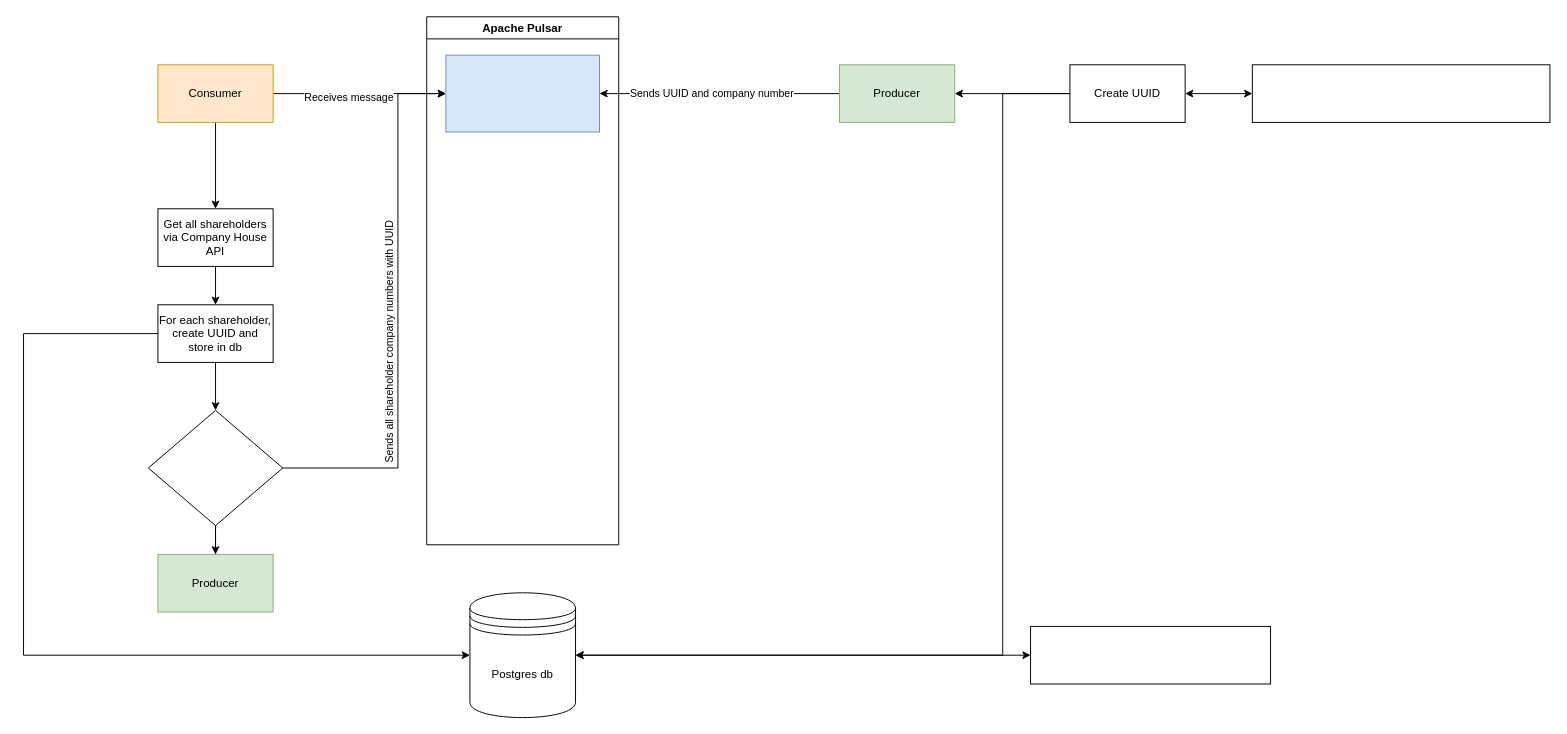
Some shapes in this 1567 by 734 pixel diagram are drawn without their labels. Each missing label, with the centre of its shape:
"GET /shareholders/{company_id}" goes at (1150,654).
"If max depth not reached" goes at (215,467).
"POST /search_shareholders/{company_house_number}/{depth}" goes at (1400,93).
"Topic: Get Shareholders" goes at (522,93).
